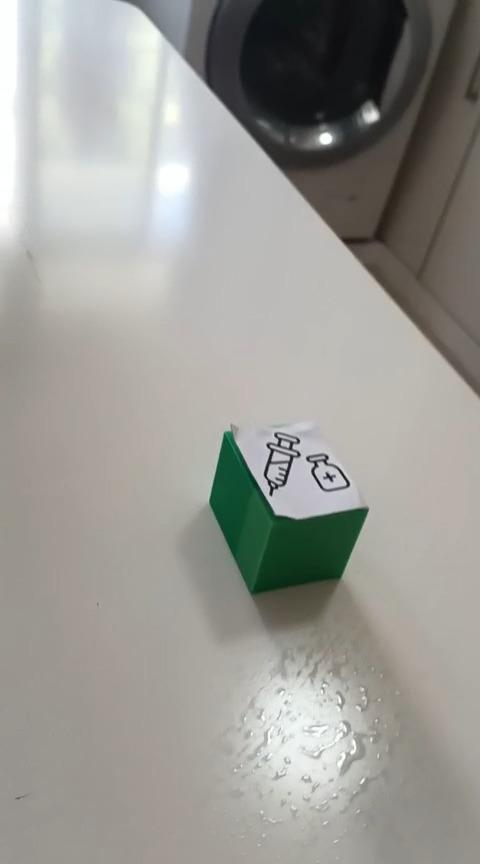antiseptic cream: (207, 417, 369, 595)
